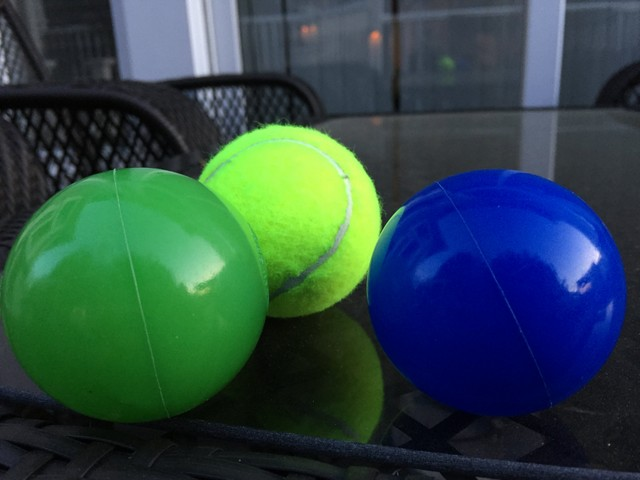Ball: (197, 126, 383, 322)
